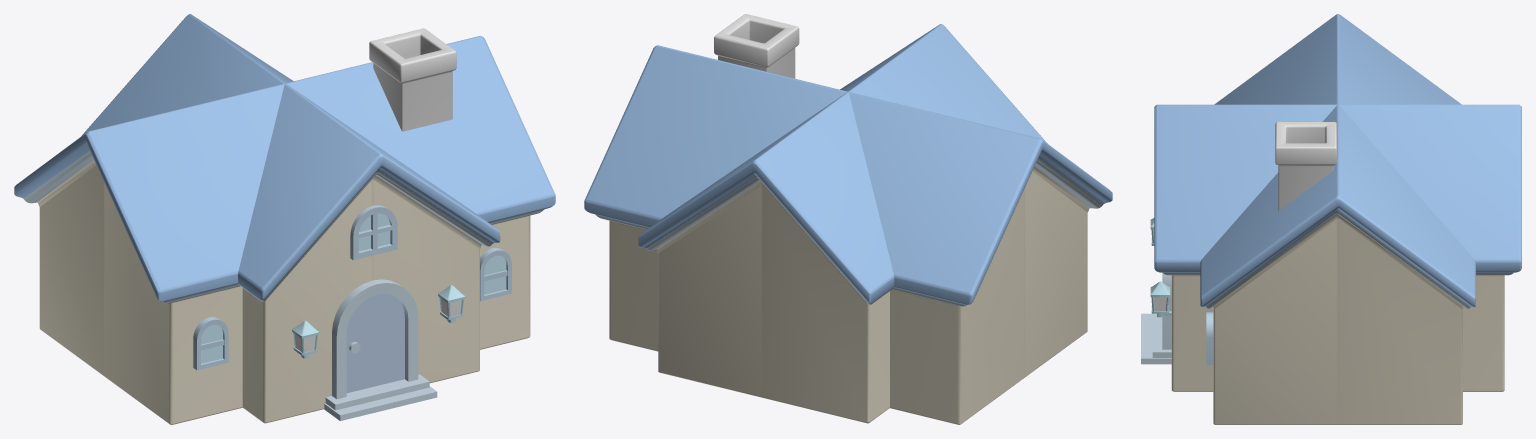
File: House03.glb
3 renders of one model, left to right at view 1: azimuth 30°, elevation 25°; view 2: azimuth 150°, elevation 25°; view 3: azimuth 270°, elevation 25°, orthographic. The views are drawn at different scales.
Parts seen in each view (by area): view 1: House, Door, SmokePipe, Window, Lamp; view 2: House, SmokePipe; view 3: House, SmokePipe, Door, Lamp, Window.
Boxes of the visible parts, box(x1,y1,x2,y2) form: House: box(14, 14, 555, 424); Door: box(324, 279, 437, 420); SmokePipe: box(369, 28, 456, 131); Window: box(193, 205, 511, 370); Lamp: box(292, 285, 465, 358); House: box(584, 24, 1112, 424); SmokePipe: box(714, 14, 799, 78); House: box(1154, 14, 1521, 424); SmokePipe: box(1275, 122, 1336, 210); Door: box(1141, 273, 1171, 364); Lamp: box(1150, 218, 1171, 317); Window: box(1206, 312, 1213, 364).
Bounding box in the file's own units: 1.36 × 0.8937 × 1.19.
